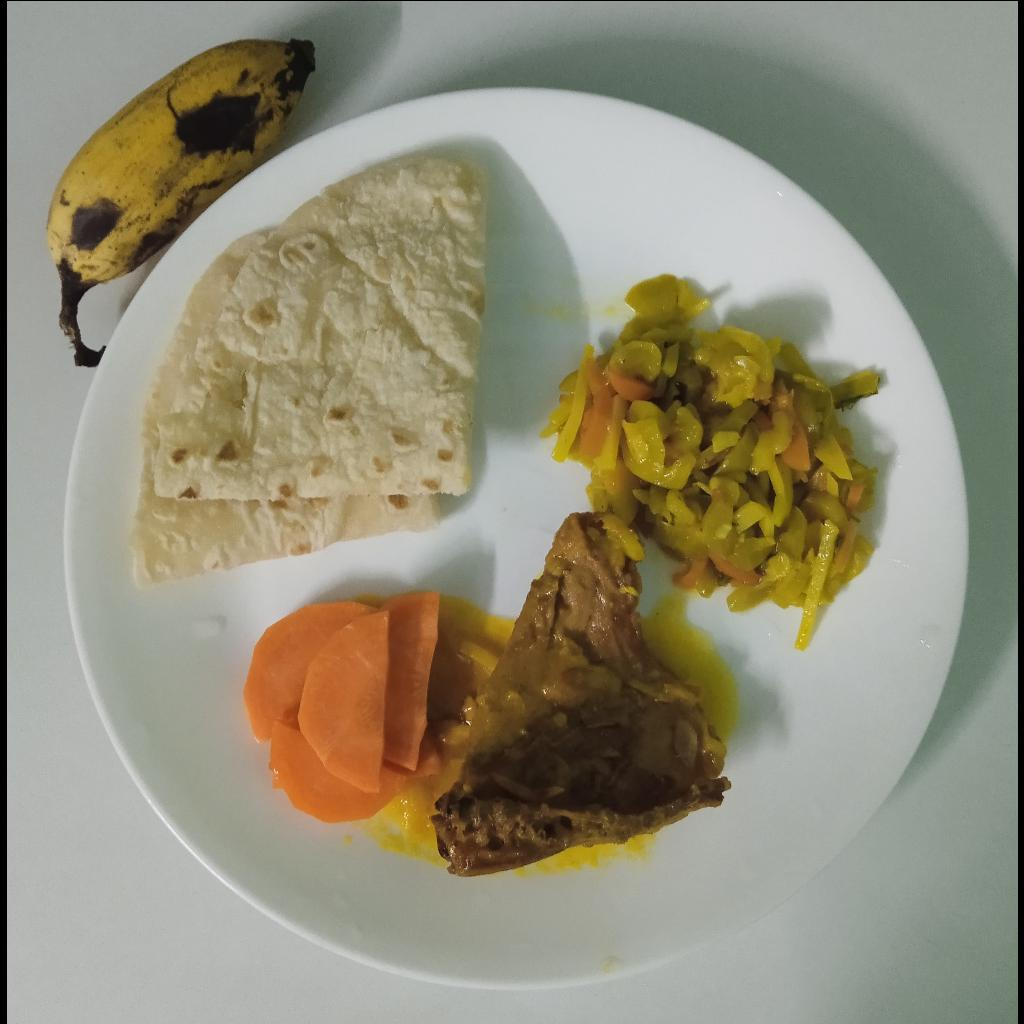banana: (37, 37, 314, 364)
carrot: (242, 590, 441, 829)
chicken: (428, 514, 734, 875)
ruti: (132, 151, 490, 580)
vegetable: (537, 265, 888, 652)
